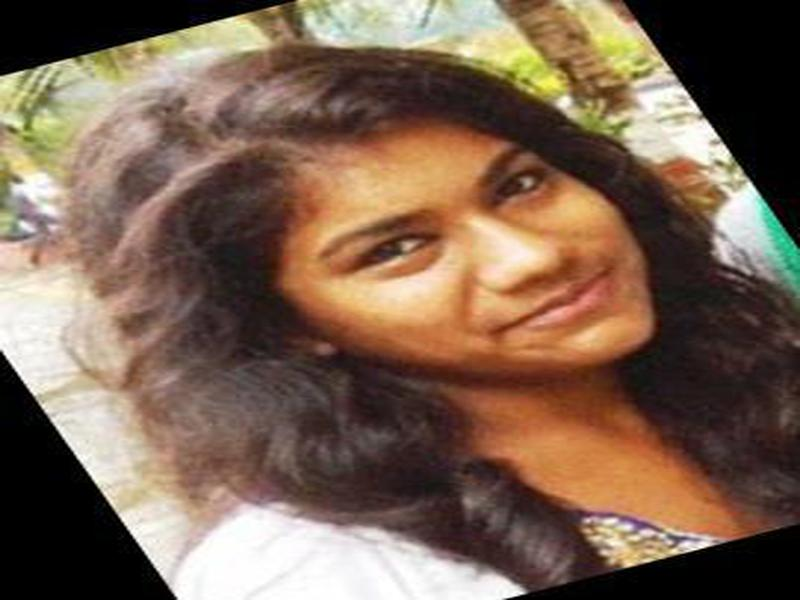without_mask: (270, 140, 659, 376)
